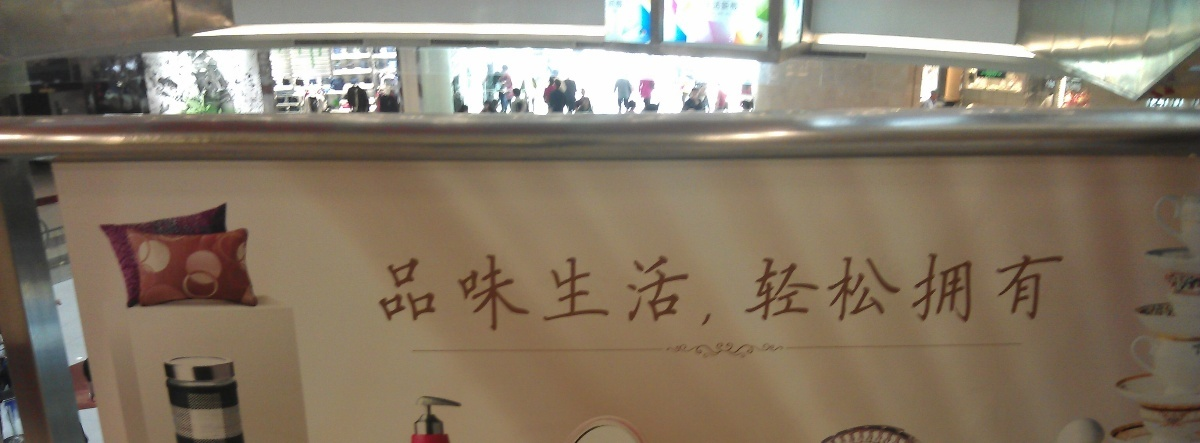text: (385, 248, 400, 329), (401, 248, 416, 329), (417, 248, 432, 329), (433, 248, 448, 329), (449, 248, 464, 329), (465, 248, 480, 329), (481, 248, 496, 329), (497, 248, 512, 329), (513, 248, 528, 329), (529, 248, 544, 329), (545, 248, 560, 329), (561, 248, 576, 329), (577, 248, 592, 329), (593, 248, 608, 329), (609, 248, 624, 329), (625, 248, 640, 329), (641, 248, 656, 329), (657, 248, 672, 329), (673, 248, 688, 329), (689, 248, 704, 329), (705, 248, 720, 329), (721, 248, 736, 329), (737, 248, 752, 329), (753, 248, 768, 329), (769, 248, 784, 329), (785, 248, 800, 329), (801, 248, 816, 329), (817, 248, 832, 329), (833, 248, 848, 329), (849, 248, 864, 329), (865, 248, 880, 329), (881, 248, 896, 329), (897, 248, 912, 329), (913, 248, 928, 329), (929, 248, 944, 329), (945, 248, 960, 329), (961, 248, 976, 329), (977, 248, 992, 329), (993, 248, 1008, 329), (1009, 248, 1024, 329), (1025, 248, 1040, 329), (1041, 248, 1056, 329), (1057, 248, 1071, 329), (377, 248, 384, 329)
